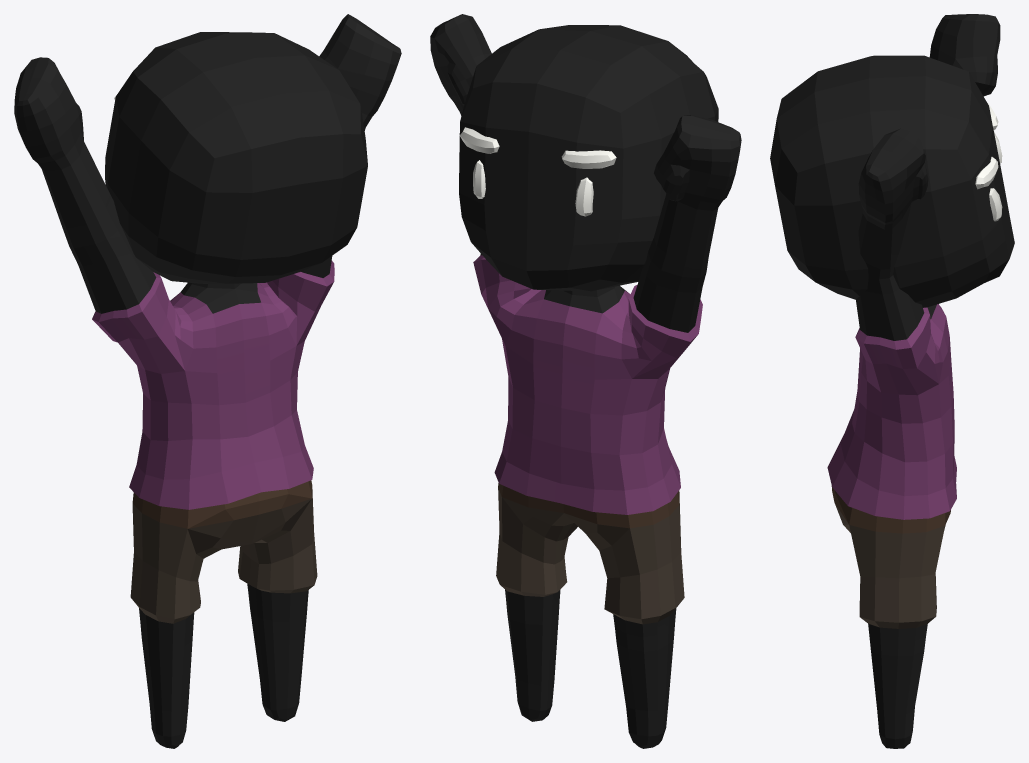
Rendered from Moun_Casual_Bald_Cheer.fbx.
The picture shows the model from 3 angles, left to right: view 1: azimuth 30°, elevation 25°; view 2: azimuth 150°, elevation 25°; view 3: azimuth 270°, elevation 25°; orthographic projection. The views are drawn at different scales.
Visible parts, largest first — view 1: Moun_Casual_Bald_Cheer; view 2: Moun_Casual_Bald_Cheer; view 3: Moun_Casual_Bald_Cheer.
Boxes of the visible parts, left/top/right/bottom form: Moun_Casual_Bald_Cheer: left=14, top=14, right=401, bottom=748; Moun_Casual_Bald_Cheer: left=430, top=14, right=741, bottom=748; Moun_Casual_Bald_Cheer: left=770, top=14, right=1014, bottom=748.
Bounding box in the file's own units: 0.8594 × 1.63 × 0.555.
